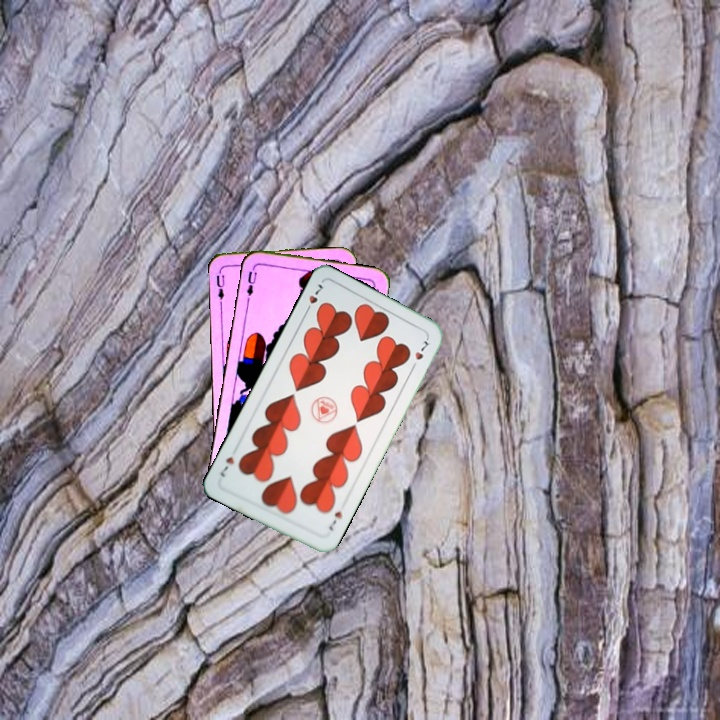EU: (242, 263, 260, 298), (212, 265, 227, 306)
H7: (301, 279, 325, 316), (324, 507, 345, 534)
